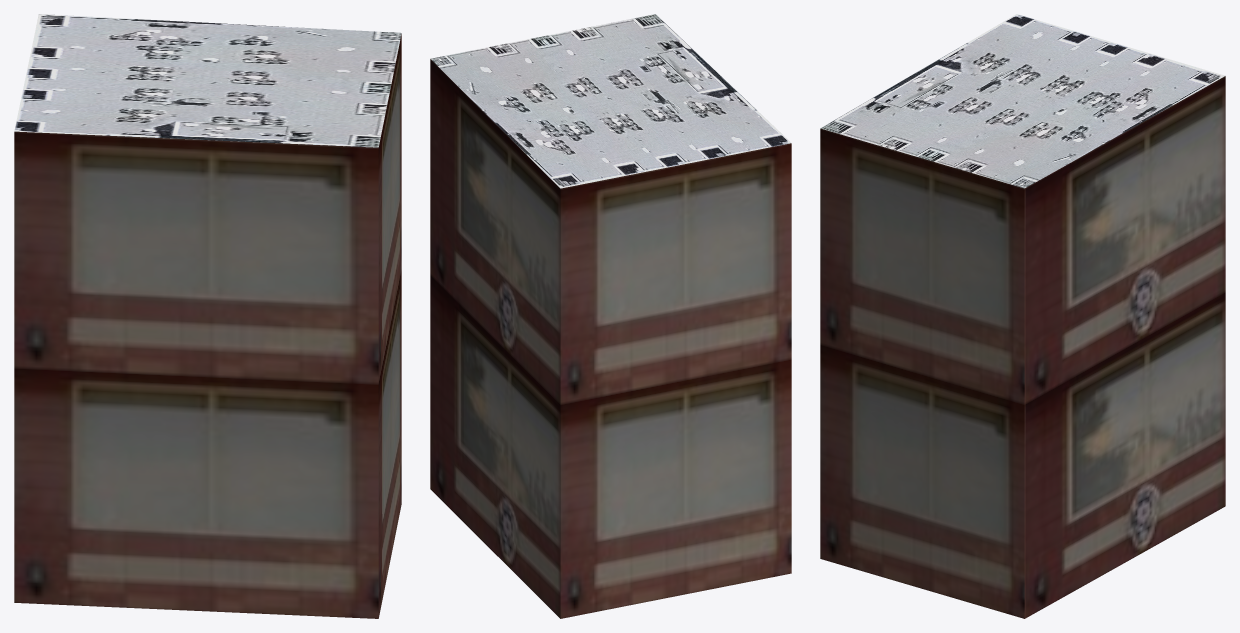
File: ResTex__1854.fbx
3 views of the same model, side by side, from view 1: azimuth 30°, elevation 25°; view 2: azimuth 150°, elevation 25°; view 3: azimuth 270°, elevation 25° (orthographic). The views are drawn at different scales.
Visible parts, largest first — view 1: CityEngineMaterial_13_m, CityEngineMaterial_4_m; view 2: CityEngineMaterial_13_m, CityEngineMaterial_4_m; view 3: CityEngineMaterial_13_m, CityEngineMaterial_4_m.
Part boxes in pixels (bbox=[...]): CityEngineMaterial_13_m: bbox=[14, 34, 401, 618]; CityEngineMaterial_4_m: bbox=[14, 14, 401, 147]; CityEngineMaterial_13_m: bbox=[430, 59, 791, 618]; CityEngineMaterial_4_m: bbox=[430, 14, 791, 188]; CityEngineMaterial_13_m: bbox=[820, 76, 1225, 618]; CityEngineMaterial_4_m: bbox=[820, 14, 1225, 188].
Bounding box in the file's own units: 5.22 × 6 × 5.12.
Materials: 2 (2 with a texture image).
